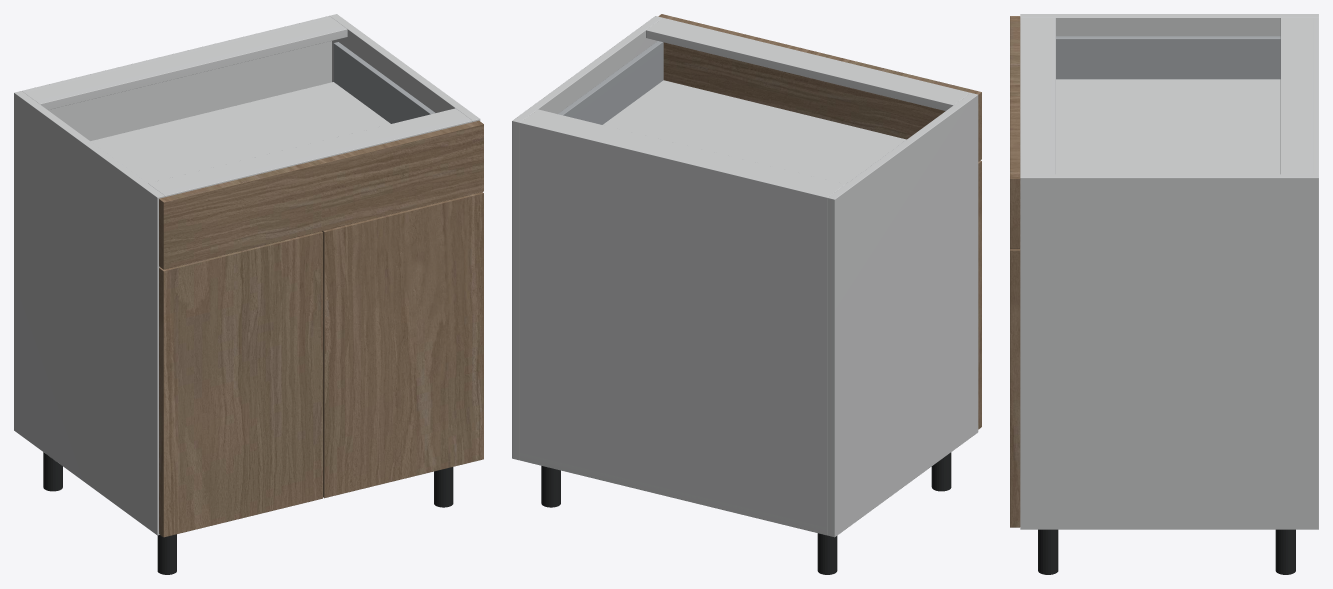
Rendered from oppein-pb-mnw-b30.glb.
The picture shows the model from 3 angles, left to right: view 1: azimuth 30°, elevation 25°; view 2: azimuth 150°, elevation 25°; view 3: azimuth 270°, elevation 25°; orthographic projection. The views are drawn at different scales.
Parts seen in each view (by area): view 1: Cabinet side, Door, Door.001, Drawer front, Drawer floor, Cabinet back, Top support rail, Top support rail.001, Drawer side.001, Cabinet side.001, Adjustable foot.001, Adjustable foot.003 (+1 smaller); view 2: Cabinet back, Cabinet side, Drawer floor, Drawer front, Top support rail.001, Cabinet side.001, Top support rail, Drawer side.001, Cabinet bottom, Door, Adjustable foot, Adjustable foot.002 (+1 smaller); view 3: Cabinet side.001, Drawer floor, Drawer side, Top support rail.001, Cabinet side, Top support rail, Door.001, Drawer front, Adjustable foot.003, Adjustable foot.002, Cabinet back.
Boxes of the visible parts, x1,y1,x2,y2 form: Cabinet side: (14, 91, 164, 535); Door: (159, 231, 322, 537); Door.001: (322, 192, 483, 498); Drawer front: (159, 120, 483, 269); Drawer floor: (90, 82, 390, 183); Cabinet back: (22, 16, 331, 140); Top support rail: (23, 18, 347, 109); Top support rail.001: (148, 108, 472, 197); Drawer side.001: (333, 42, 435, 123); Cabinet side.001: (329, 14, 480, 121); Adjustable foot.001: (157, 534, 176, 574); Adjustable foot.003: (434, 467, 453, 507); Cabinet back: (519, 120, 829, 535); Cabinet side: (827, 93, 978, 537); Drawer floor: (603, 80, 906, 184); Drawer front: (658, 14, 981, 161); Top support rail.001: (646, 18, 970, 110); Cabinet side.001: (512, 16, 662, 460); Top support rail: (523, 109, 844, 195); Drawer side.001: (558, 41, 663, 124); Cabinet bottom: (520, 453, 826, 534); Door: (978, 160, 981, 429); Adjustable foot: (817, 533, 837, 574); Adjustable foot.002: (541, 466, 560, 507); Cabinet side.001: (1020, 174, 1318, 529); Drawer floor: (1056, 79, 1280, 174); Drawer side: (1056, 36, 1280, 79); Top support rail.001: (1020, 18, 1055, 174); Cabinet side: (1020, 14, 1318, 36); Top support rail: (1280, 18, 1315, 174); Door.001: (1010, 249, 1020, 527); Drawer front: (1010, 16, 1020, 248); Adjustable foot.003: (1038, 529, 1058, 574); Adjustable foot.002: (1275, 529, 1295, 574); Cabinet back: (1313, 18, 1318, 174).
Bounding box in the file's own units: 0.762 × 0.8763 × 0.6064.
4 materials, 1 textured.
